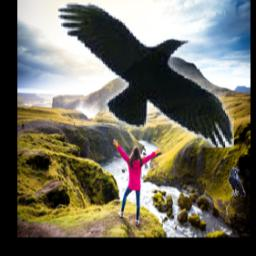Crow: (59, 3, 235, 147), (228, 167, 246, 197)
